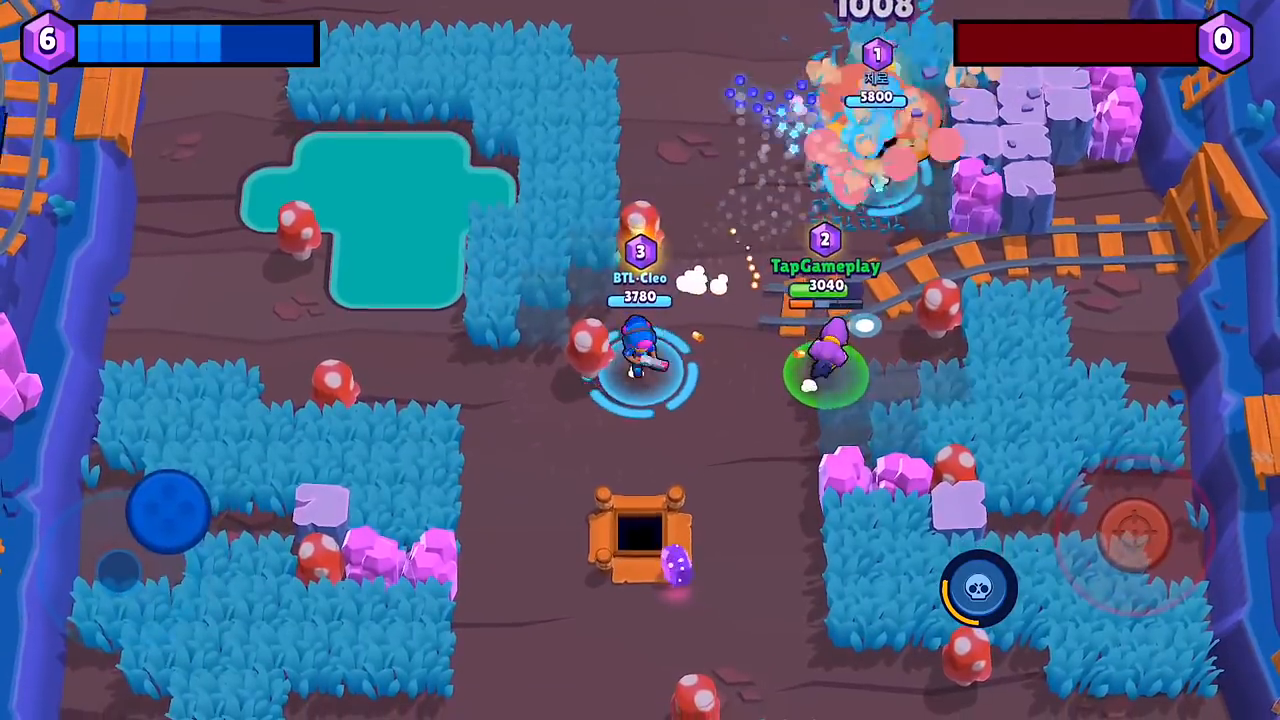move_stick: (122, 461, 216, 553)
